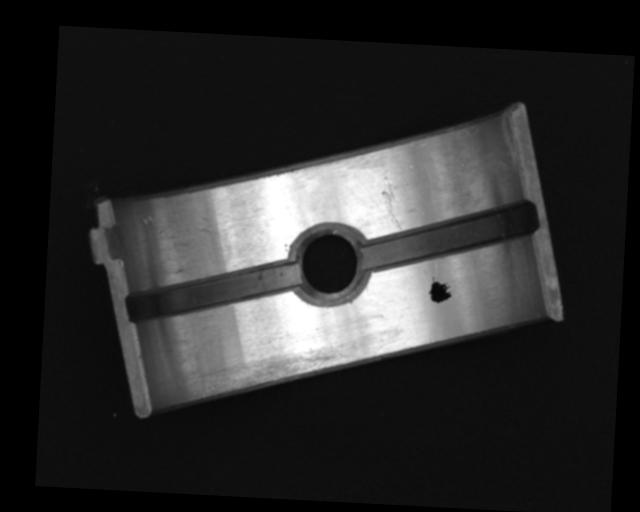blot: (427, 275, 453, 305)
bruise: (197, 225, 218, 235), (139, 214, 154, 226)
gap: (361, 194, 537, 280), (124, 253, 302, 331)
hole: (288, 224, 367, 307)
nick: (377, 176, 404, 231)
scratch: (195, 339, 357, 405)
